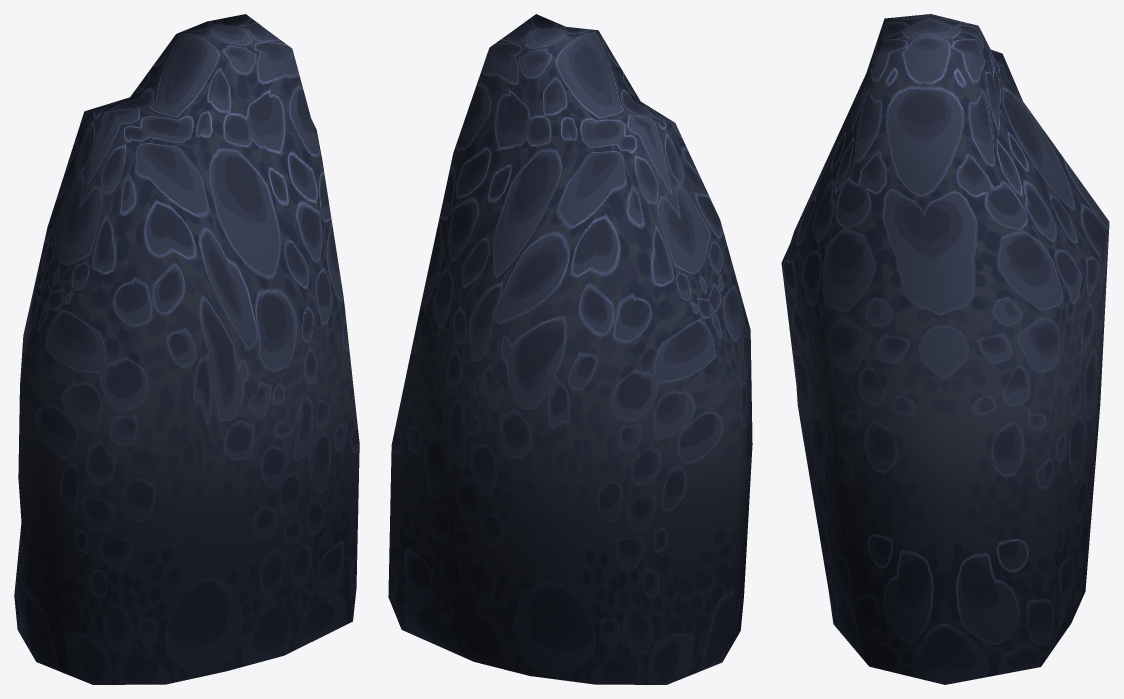
File: Rock_02c.FBX
3 renders of one model, left to right at view 1: azimuth 30°, elevation 25°; view 2: azimuth 150°, elevation 25°; view 3: azimuth 270°, elevation 25°, orthographic. The views are drawn at different scales.
Visible parts, largest first — view 1: Rock_02c; view 2: Rock_02c; view 3: Rock_02c.
Part boxes in pixels (x1=…): Rock_02c: x1=14, y1=14, x2=359, y2=684; Rock_02c: x1=388, y1=14, x2=752, y2=684; Rock_02c: x1=781, y1=14, x2=1109, y2=684.
Bounding box in the file's own units: 211 × 359 × 178.
